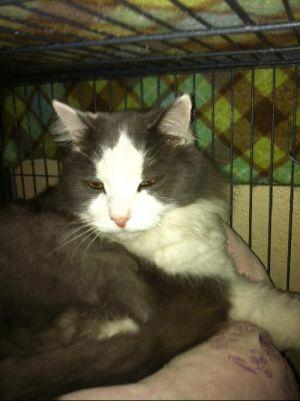ragdoll: (40, 91, 216, 251)
